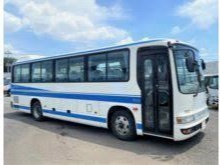bus: (13, 41, 209, 142)
